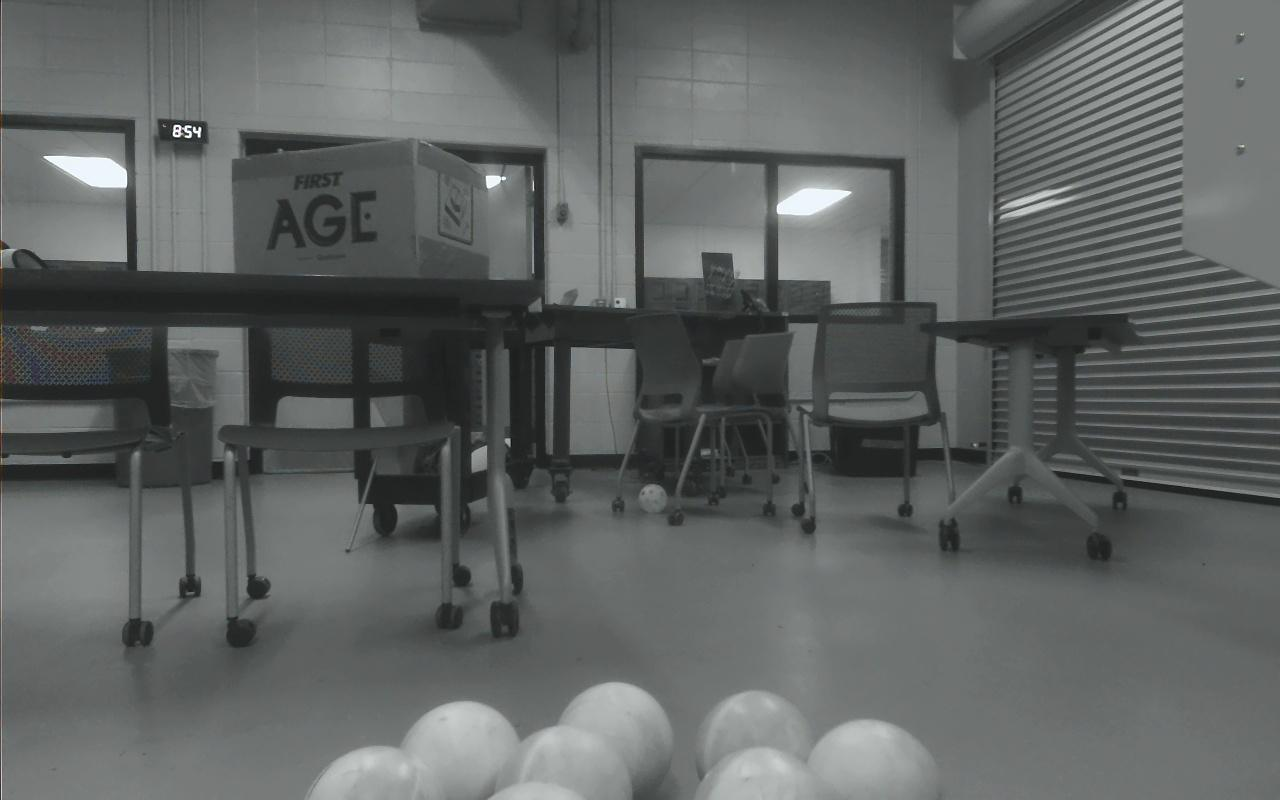Fuel: (556, 681, 673, 800), (695, 690, 814, 800), (399, 701, 520, 800), (808, 718, 942, 800), (494, 725, 634, 800), (305, 746, 448, 800), (694, 746, 835, 800), (488, 781, 588, 800)
